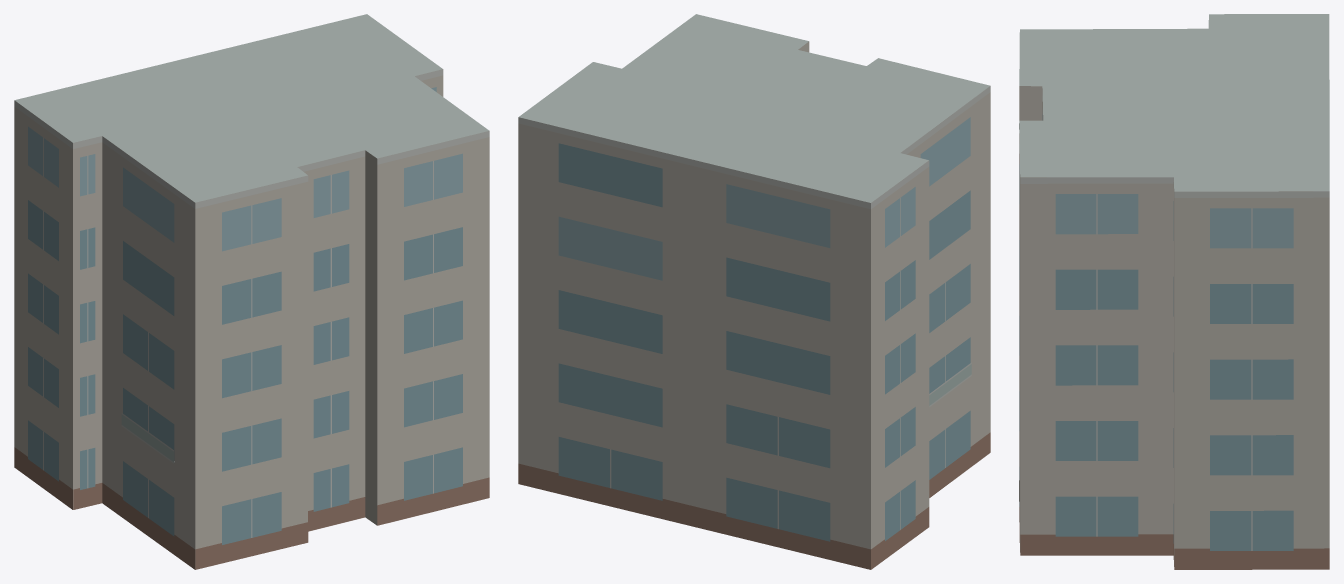
File: survey-upis-32647662.glb
The picture shows the model from 3 angles, left to right: view 1: azimuth 30°, elevation 25°; view 2: azimuth 150°, elevation 25°; view 3: azimuth 270°, elevation 25°; orthographic projection. The views are drawn at different scales.
Parts seen in each view (by area): view 1: survey-upis-32647662.tmp; view 2: survey-upis-32647662.tmp; view 3: survey-upis-32647662.tmp.
Part boxes in pixels (x1,y1,x2,y2): survey-upis-32647662.tmp: [14, 14, 489, 569]; survey-upis-32647662.tmp: [518, 14, 990, 569]; survey-upis-32647662.tmp: [1019, 14, 1329, 569].
Size of the model in its own units: 14.45 by 14.33 by 10.67.
